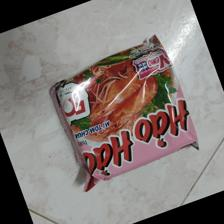Haohao: (44, 36, 204, 192)
